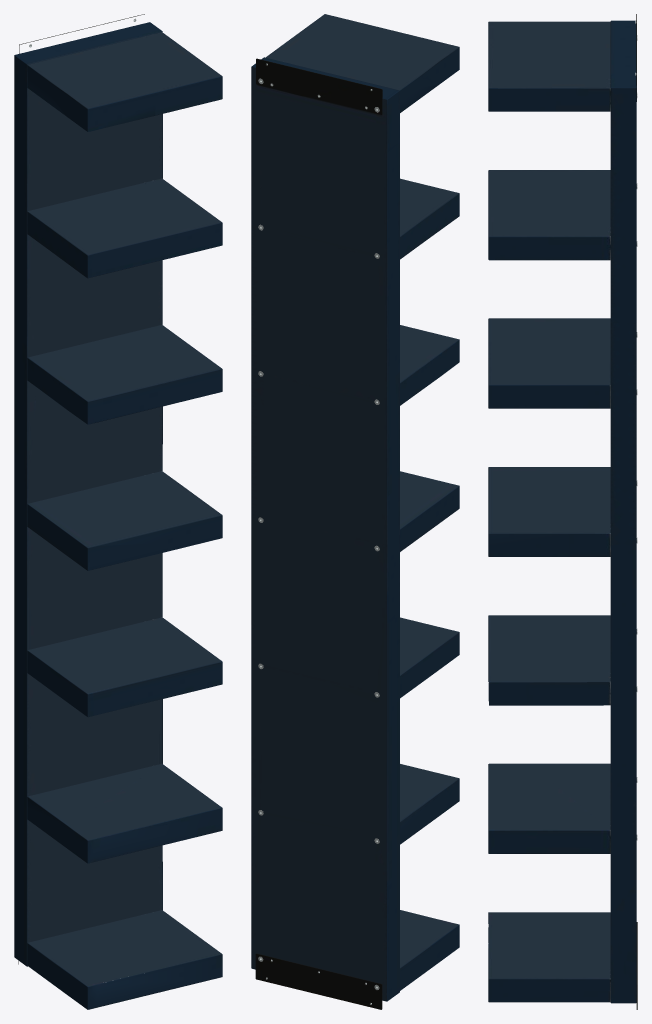
The model's file is lack_poka_scienna_00592870.glb.
The picture shows the model from 3 angles, left to right: view 1: azimuth 30°, elevation 25°; view 2: azimuth 150°, elevation 25°; view 3: azimuth 270°, elevation 25°; orthographic projection.
Parts seen in each view (by area): view 1: lack_poka_scienna_00592870; view 2: lack_poka_scienna_00592870; view 3: lack_poka_scienna_00592870.
Part boxes in pixels (<box>): lack_poka_scienna_00592870: <box>14,14,222,1009</box>; lack_poka_scienna_00592870: <box>251,14,459,1009</box>; lack_poka_scienna_00592870: <box>488,14,637,1009</box>.
Size of the model in its own units: 0.3 by 1.94 by 0.2805.
1 material, 1 textured.
